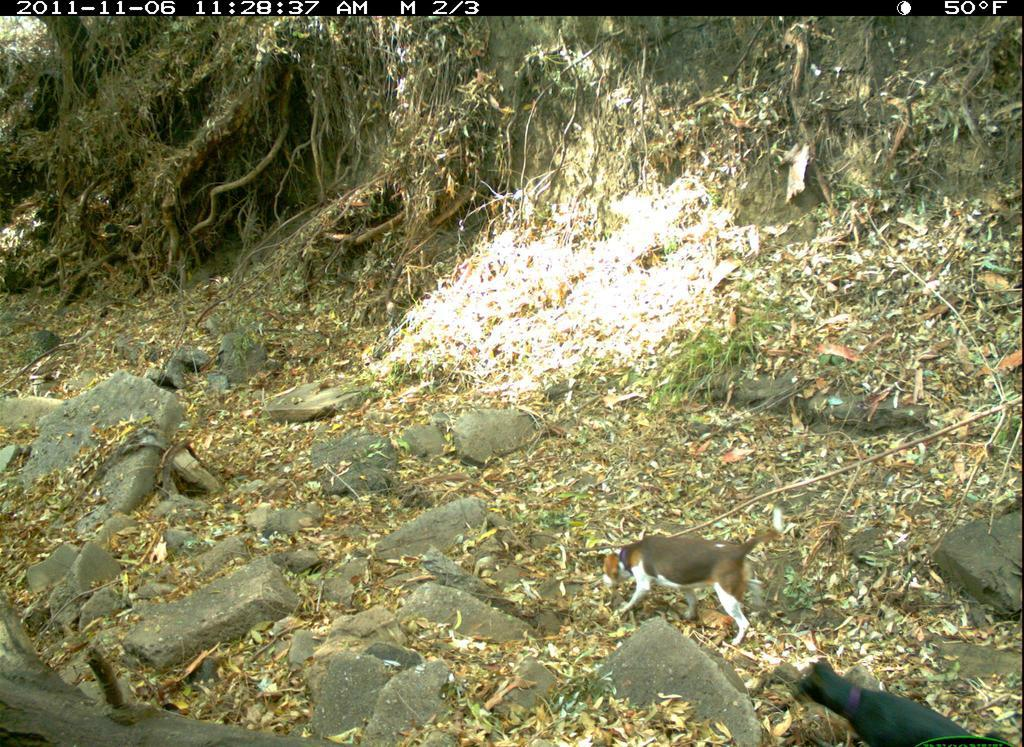dog: (592, 504, 783, 653), (789, 657, 1010, 747)
